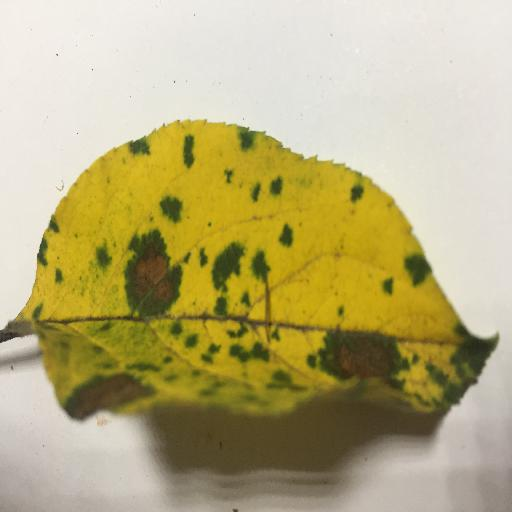Brown_Spot: (186, 243, 277, 391), (324, 324, 463, 406), (50, 348, 135, 425), (124, 241, 186, 316)
